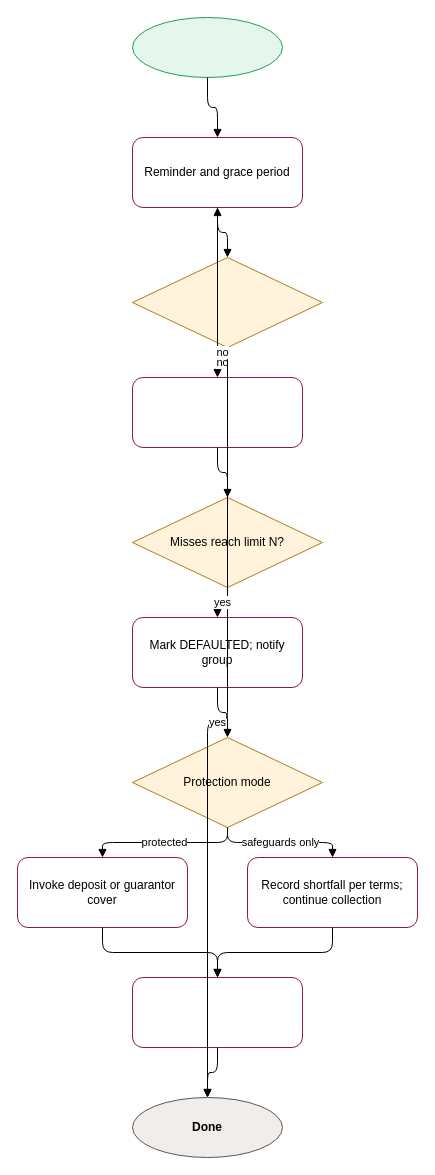
Some shapes in this 435 by 1175 pixel diagram are drawn without their labels. The centre of each missing label's shape, as x and y in pixels:
"Late fee; flag" belongs at (x=217, y=412).
"Member misses contribution" belongs at (x=207, y=47).
"Paid?" belongs at (x=227, y=302).
"Update trust score; restrict future circles" belongs at (x=217, y=1012).
